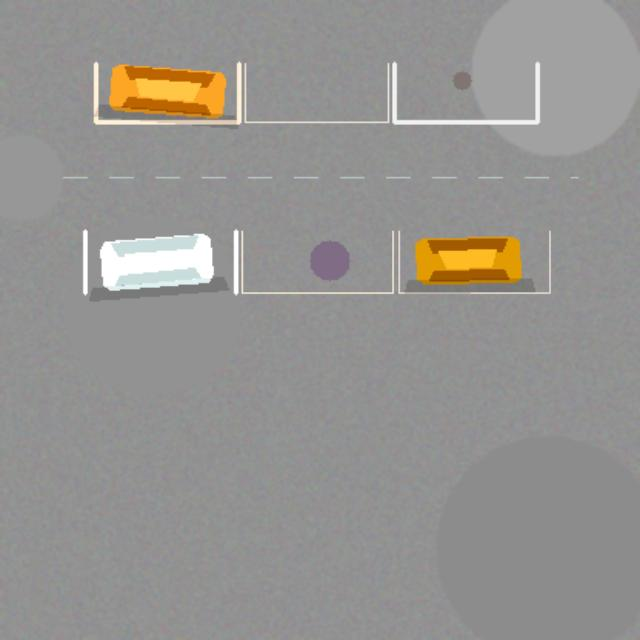space-empty: (242, 231, 392, 292), (245, 63, 388, 122), (394, 63, 537, 122)
space-occupied: (398, 231, 549, 292), (85, 231, 235, 292), (95, 63, 238, 122)
